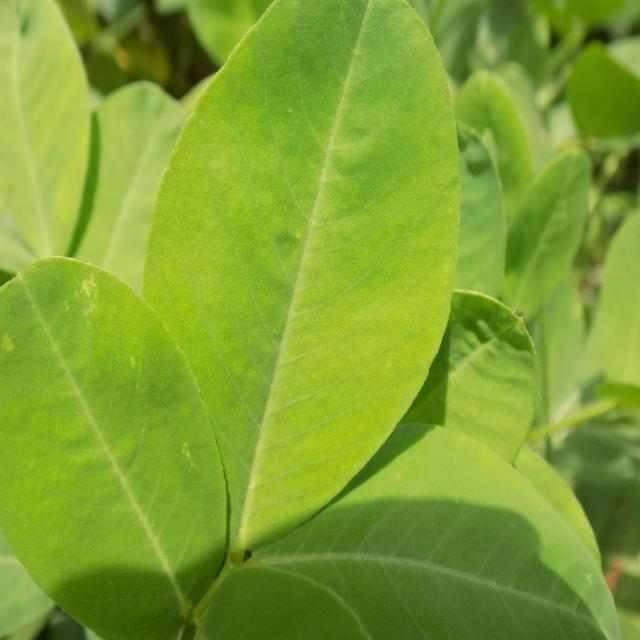Ground nut_healthy: (142, 0, 452, 538), (0, 249, 228, 640)
